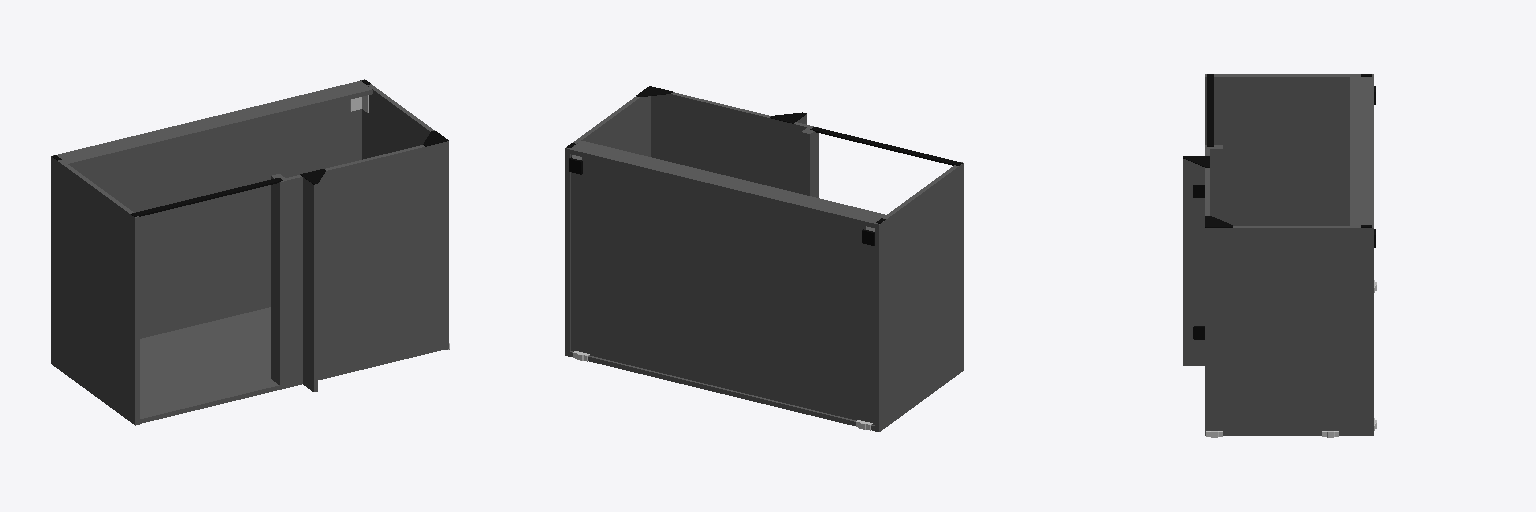
The model's file is IKEA.ART.60205517.obj.
3 renders of one model, left to right at view 1: azimuth 30°, elevation 25°; view 2: azimuth 150°, elevation 25°; view 3: azimuth 270°, elevation 25°, orthographic.
Parts seen in each view (by area): view 1: model_model.079; view 2: model_model.079; view 3: model_model.079.
Part boxes in pixels (bbox=[...]): model_model.079: bbox=[51, 79, 449, 425]; model_model.079: bbox=[565, 86, 963, 431]; model_model.079: bbox=[1183, 74, 1376, 437].
Bounding box in the file's own units: 1.27 × 0.807 × 0.675.